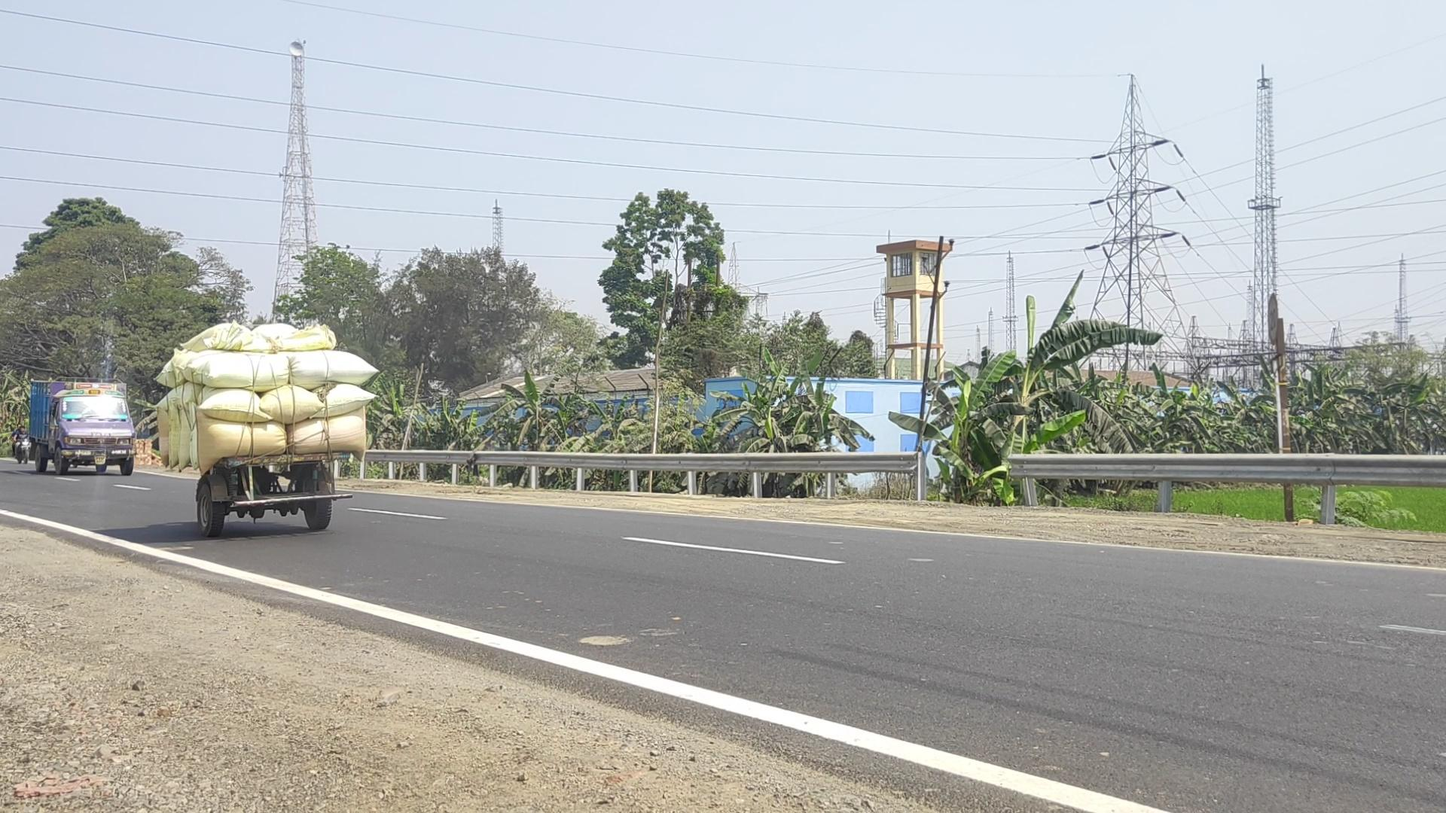bike: (11, 424, 32, 464)
truck: (29, 376, 136, 477)
